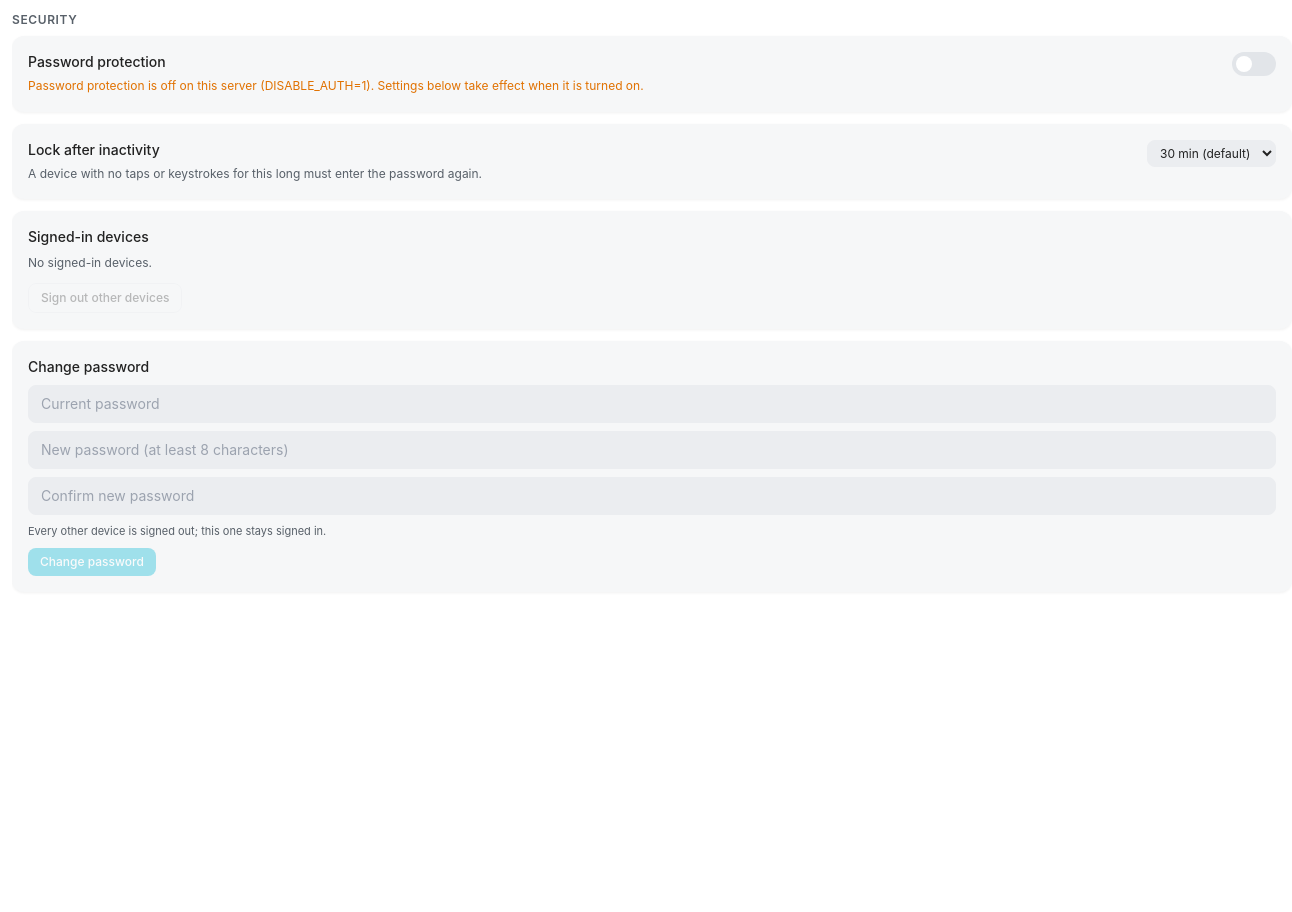
Password protection card: off › {"status":429}: shows Too many failed attempts. Try again in 42s., state unchanged
Click the switch named "Password protection" at (1254, 64), box x1=1232 y1=52 x2=1276 y2=76
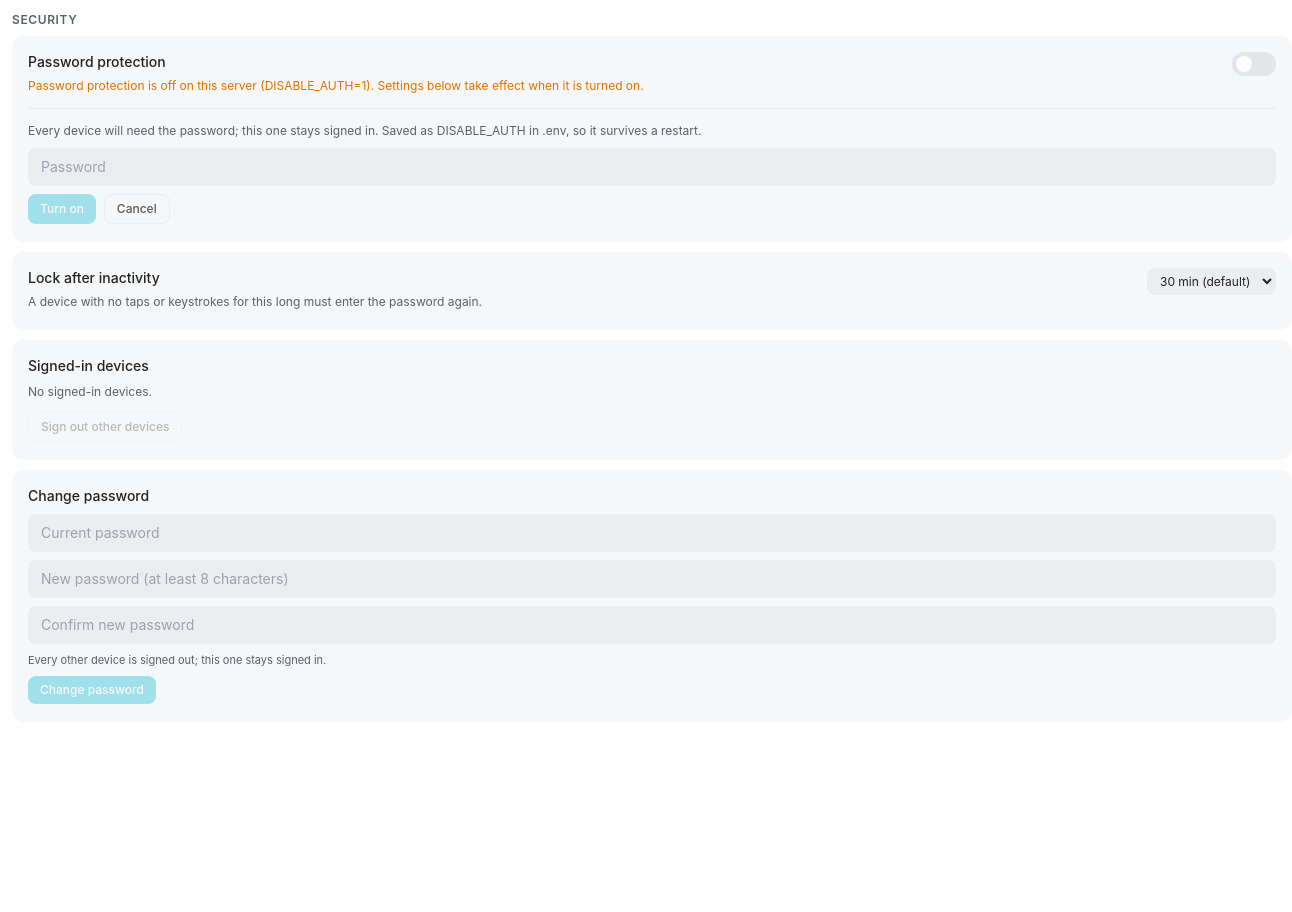
Type "pw-123456" into the password field labelled "Password" at (652, 167), box x1=28 y1=148 x2=1276 y2=186
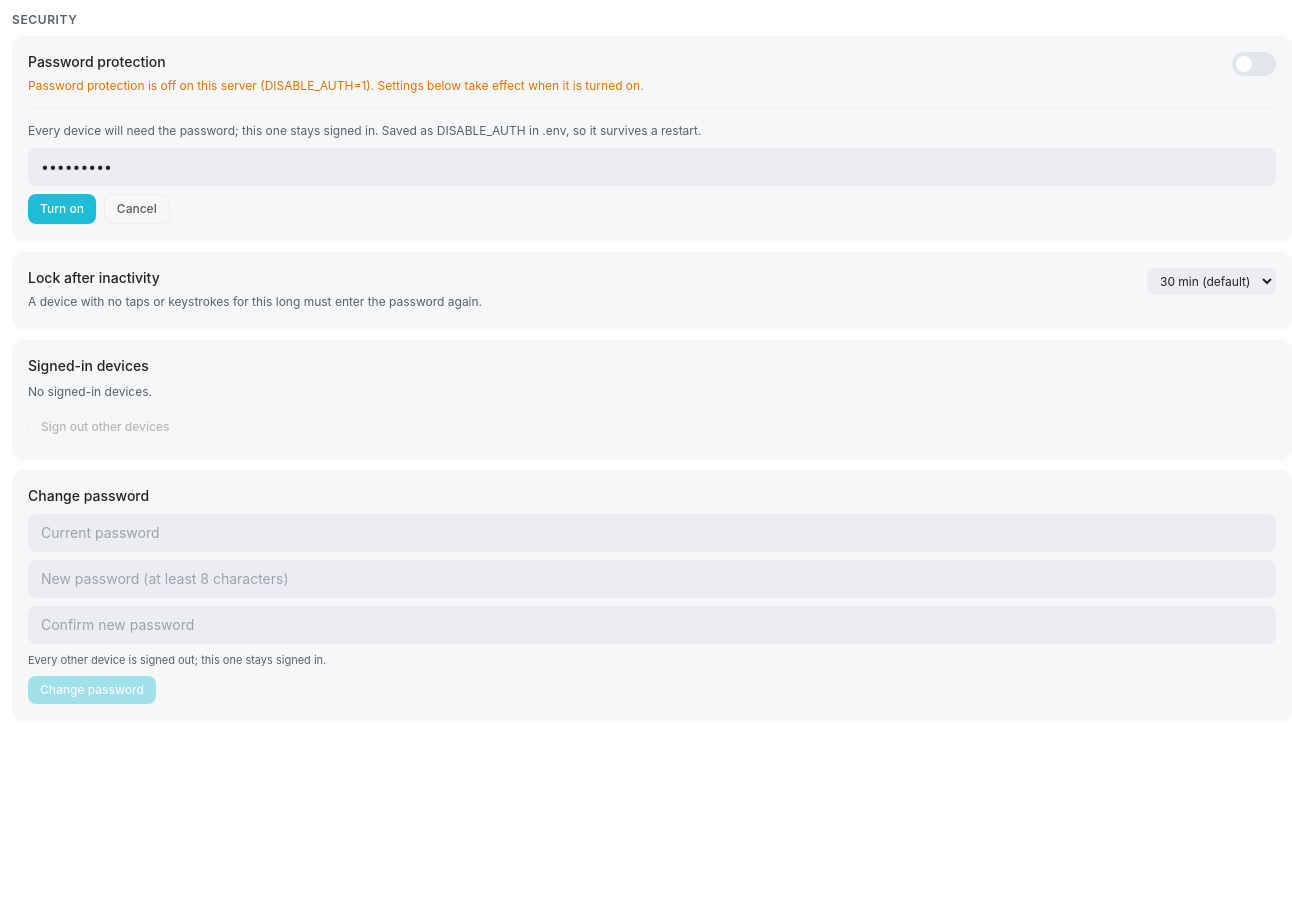
Click the button "Turn on" at (62, 209), box x1=28 y1=194 x2=96 y2=224
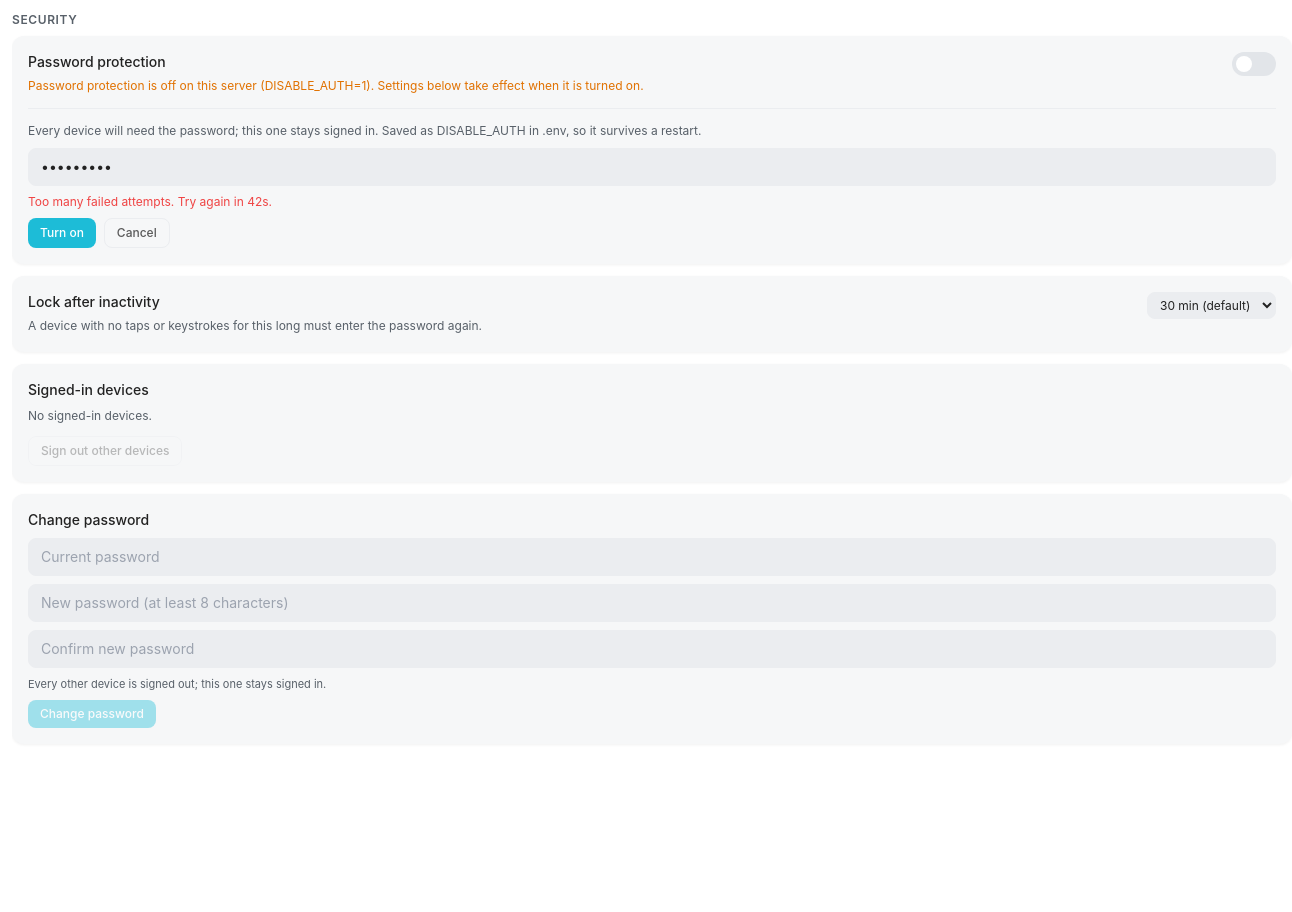
expect the message reads "Too many failed attempts. Try again in 42s.": met, box x1=28 y1=194 x2=272 y2=209
